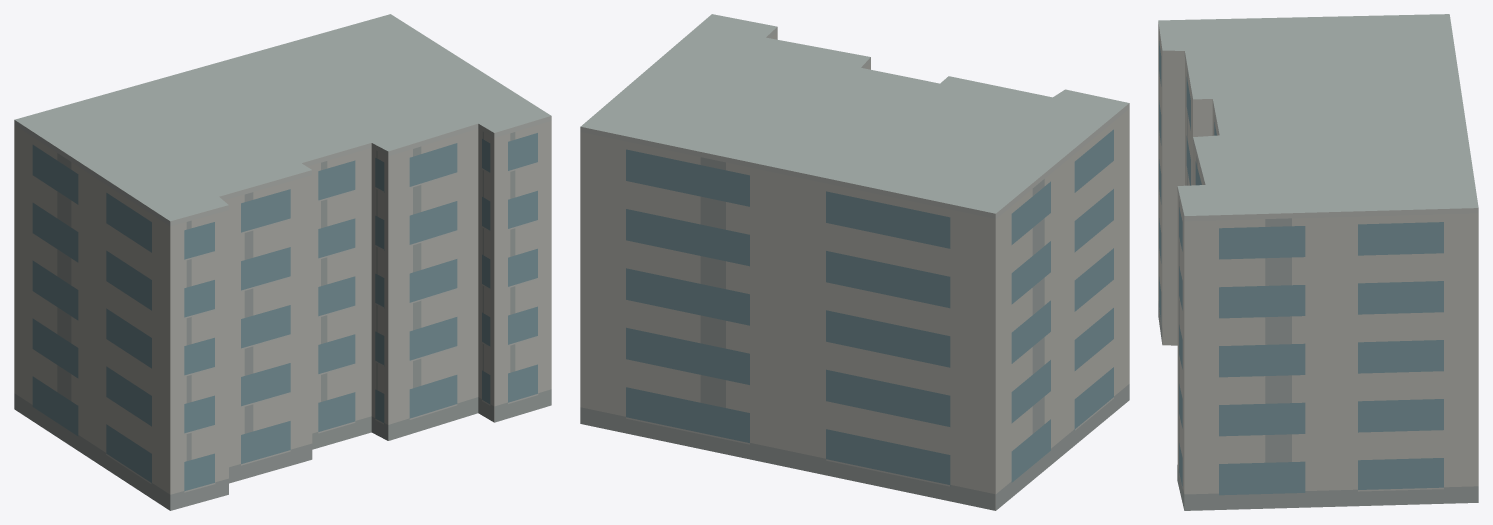
The model's file is survey-upis-32985483.glb.
3 renders of one model, left to right at view 1: azimuth 30°, elevation 25°; view 2: azimuth 150°, elevation 25°; view 3: azimuth 270°, elevation 25°, orthographic. The views are drawn at different scales.
Parts seen in each view (by area): view 1: survey-upis-32985483.tmp; view 2: survey-upis-32985483.tmp; view 3: survey-upis-32985483.tmp.
Boxes of the visible parts, x1=… form: survey-upis-32985483.tmp: x1=14, y1=14, x2=551, y2=510; survey-upis-32985483.tmp: x1=580, y1=14, x2=1129, y2=510; survey-upis-32985483.tmp: x1=1158, y1=14, x2=1478, y2=510.
Size of the model in its own units: 20.23 by 13.75 by 13.56.
